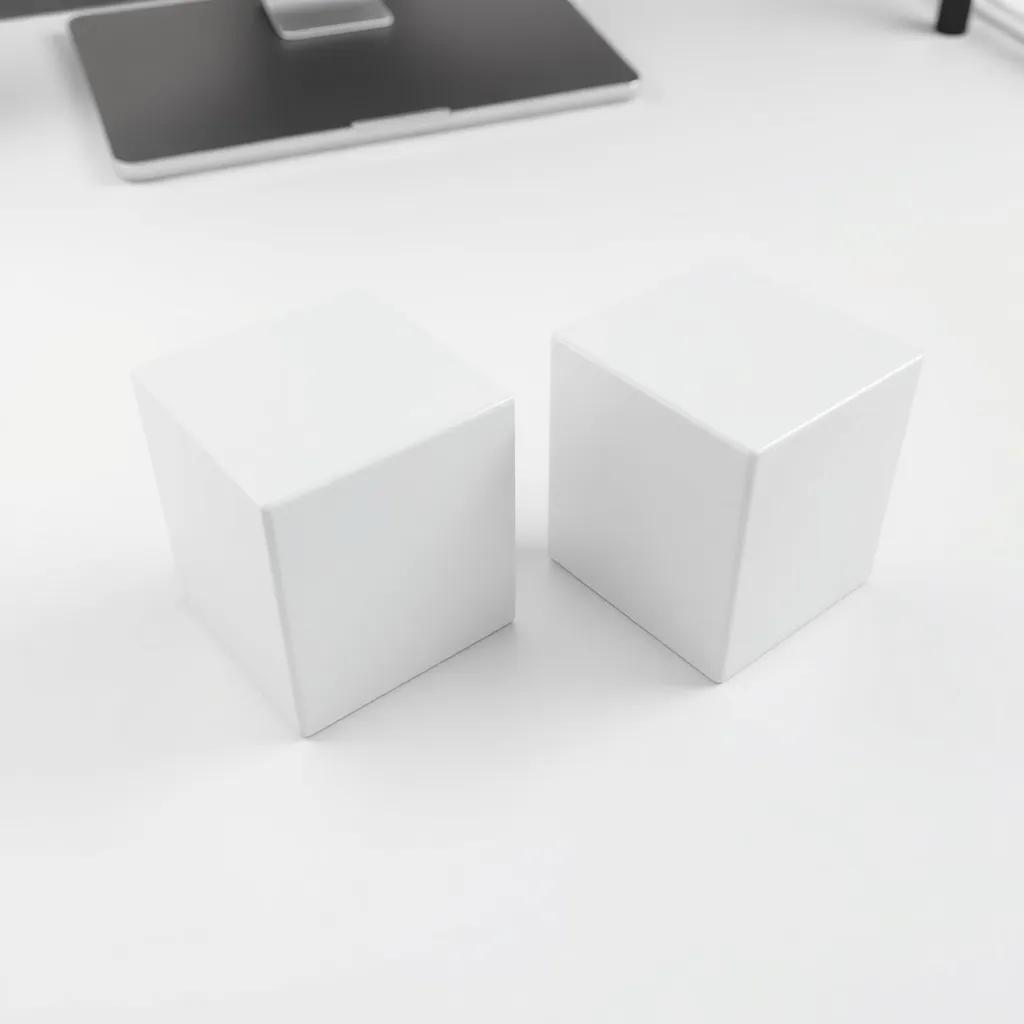cube: (130, 289, 517, 738), (546, 259, 925, 684)
